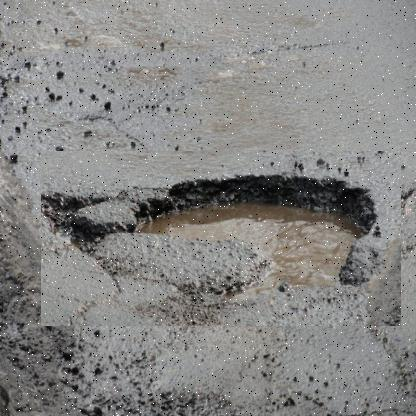pothole: (40, 151, 401, 327)
